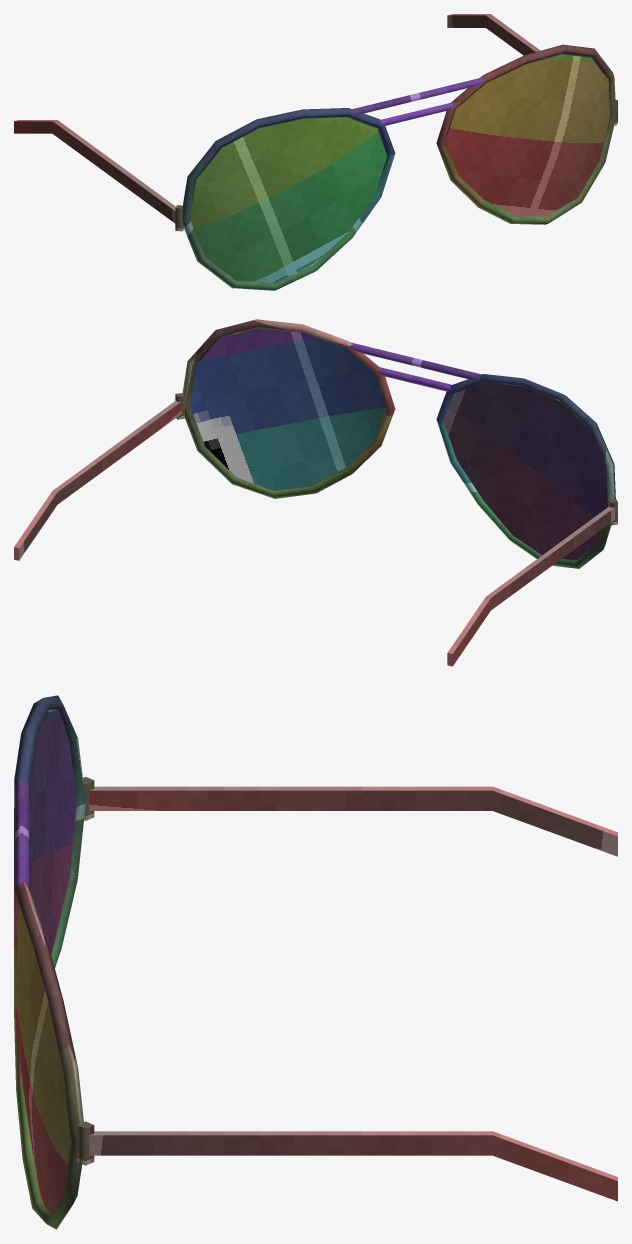
Rendered from glasses.obj.
The picture shows the model from 3 angles, top to bottom: view 1: azimuth 30°, elevation 25°; view 2: azimuth 150°, elevation 25°; view 3: azimuth 270°, elevation 25°; orthographic projection. The views are drawn at different scales.
Parts seen in each view (by area): view 1: glasses; view 2: glasses; view 3: glasses.
Part boxes in pixels (x1,y1,x2,y2): glasses: (14,14,617,290); glasses: (14,319,617,666); glasses: (14,695,617,1229).
Size of the model in its own units: 0.5128 by 0.197 by 0.3718.
